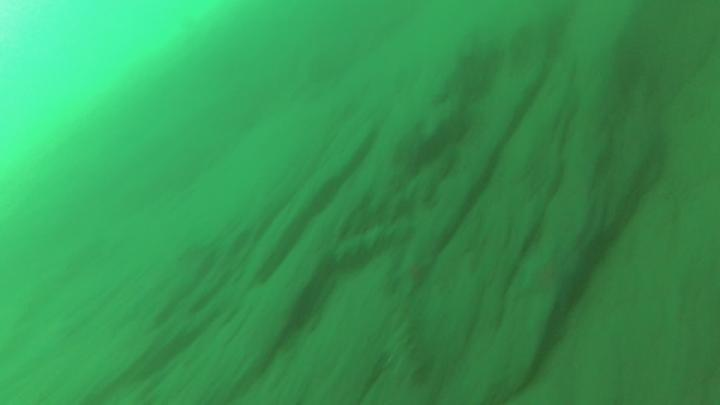holothurian: (378, 278, 436, 376), (330, 223, 412, 262)
starfish: (514, 249, 586, 309)
